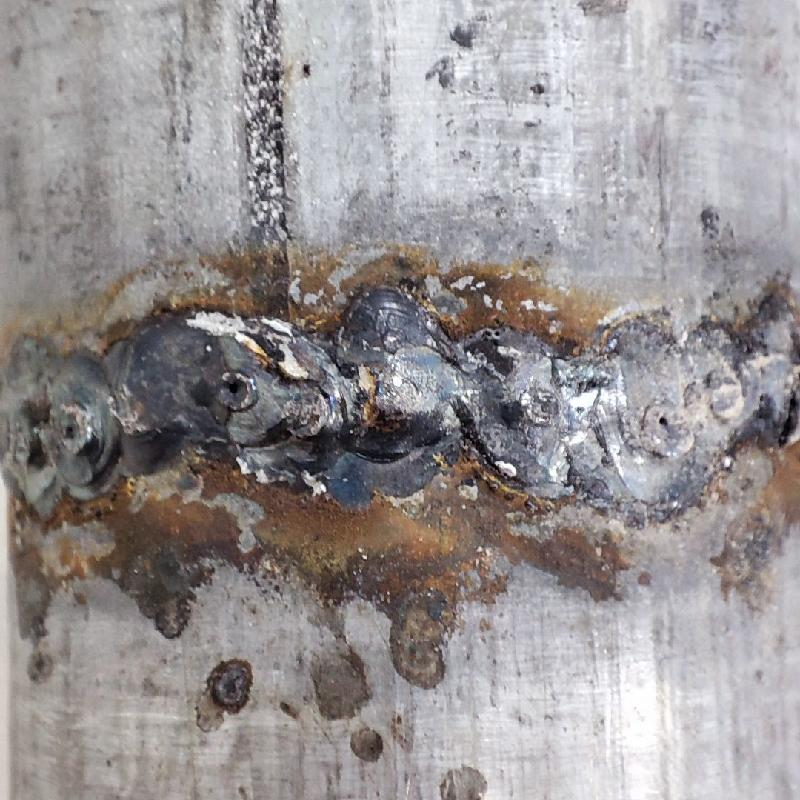Not_fully_soldered: (482, 320, 796, 499)
Surface_pores: (213, 364, 267, 415), (644, 398, 685, 454)
wrong_size: (3, 324, 460, 500)
